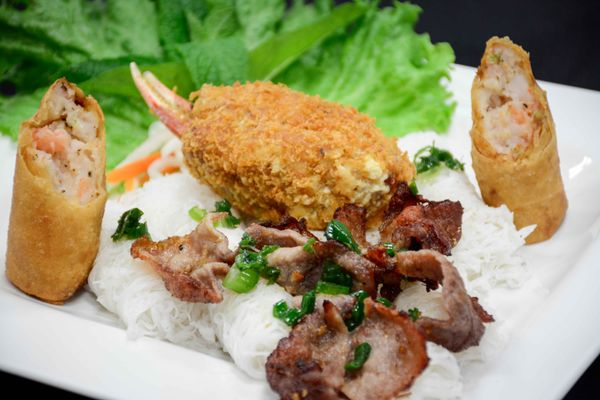soup: (88, 56, 493, 392)
